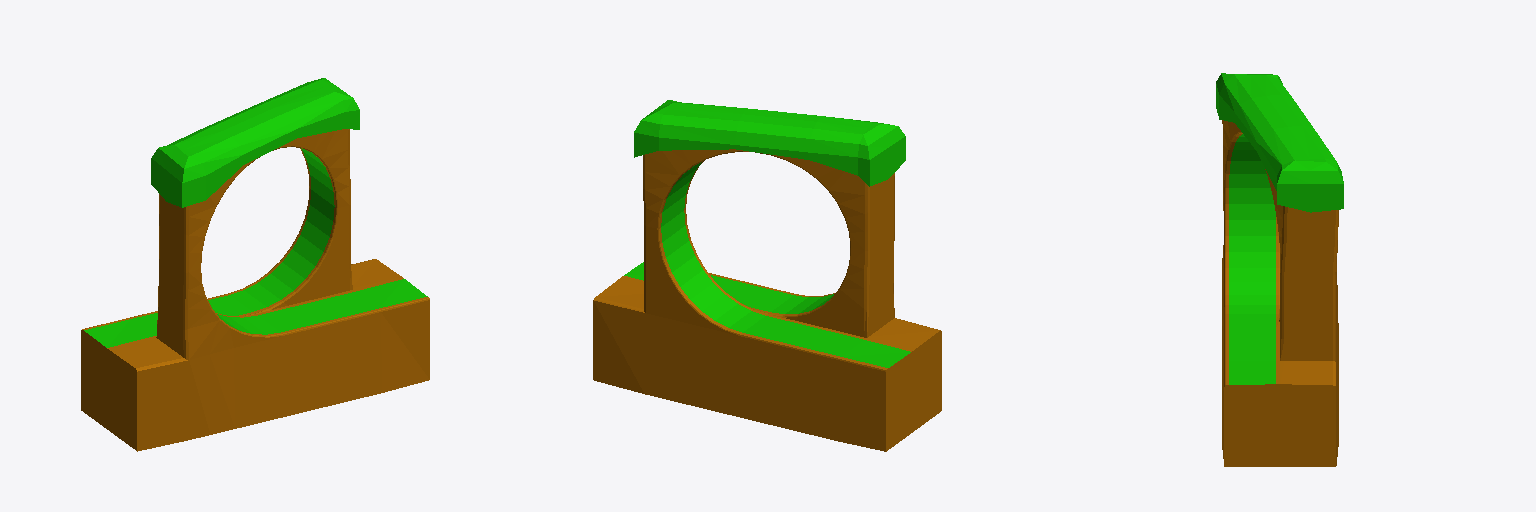
Rendered from loop.obj.
The picture shows the model from 3 angles: view 1: azimuth 30°, elevation 25°; view 2: azimuth 150°, elevation 25°; view 3: azimuth 270°, elevation 25°; orthographic projection.
Parts seen in each view (by area): view 1: Plane, Plane.001; view 2: Plane, Plane.001; view 3: Plane, Plane.001.
Boxes of the visible parts, <box> form: Plane: <box>81,129,429,451</box>; Plane.001: <box>151,78,359,207</box>; Plane: <box>593,149,941,451</box>; Plane.001: <box>634,100,905,186</box>; Plane: <box>1222,120,1338,466</box>; Plane.001: <box>1216,73,1343,212</box>.
Size of the model in its own units: 21.37 by 19.46 by 8.1.